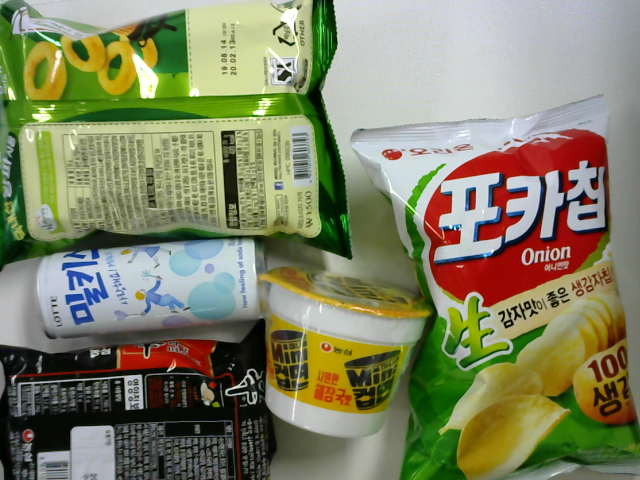Grilled_Onions: (3, 4, 355, 248)
Hejangmini: (263, 264, 409, 438)
Milkies_250ml: (33, 244, 271, 338)
Pocachip_Onion: (357, 98, 640, 478)
Sinramen_Black: (1, 336, 275, 480)
